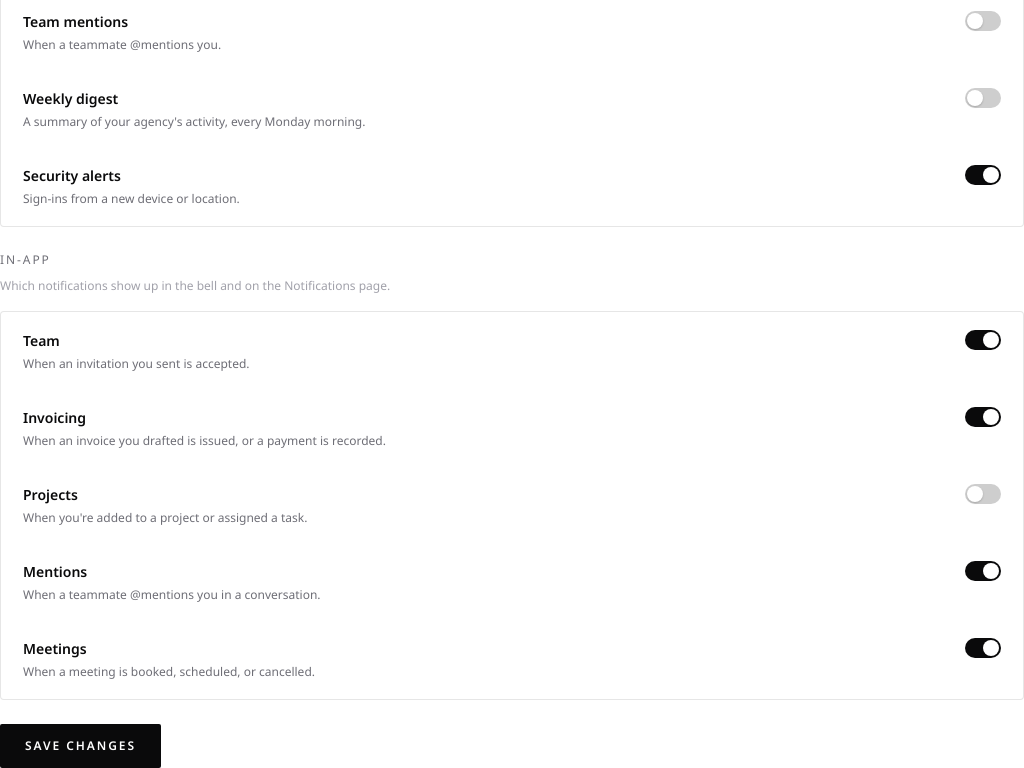
Scenario: NotificationSettingsForm › shows the server error on failure
(page scrolled)
Click the button "Save changes".
click(80, 746)  # box 0,724 -> 161,767
(page scrolled)
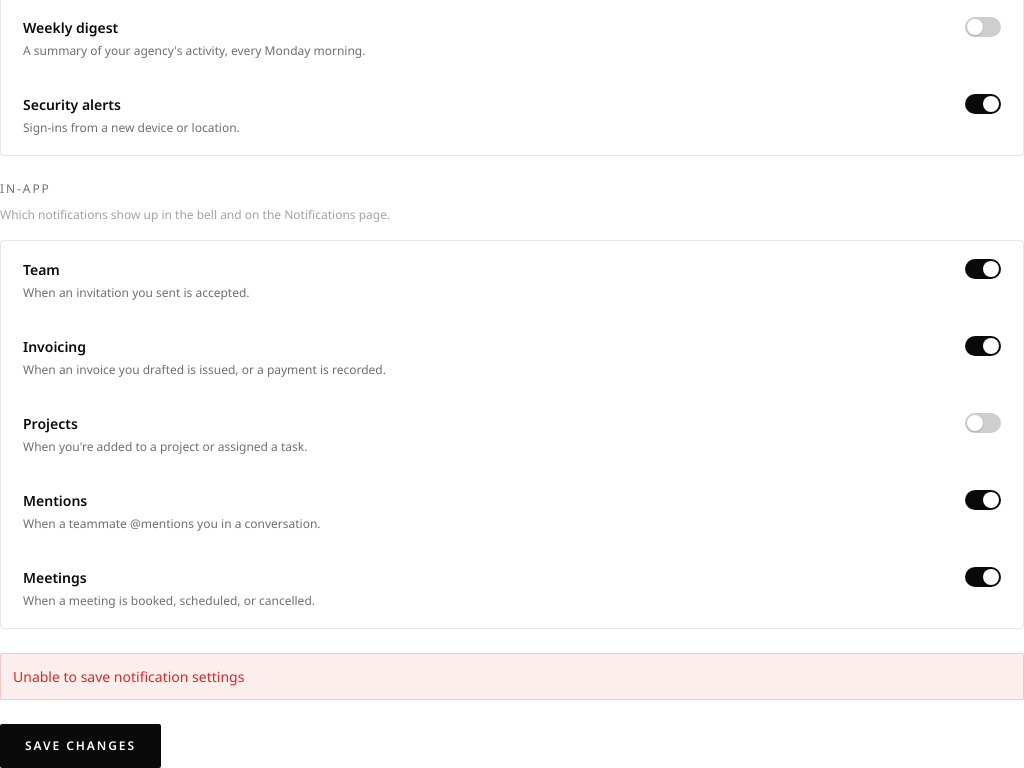
Result: the text "Unable to save notification settings" is shown at 0,653 -> 1023,700
